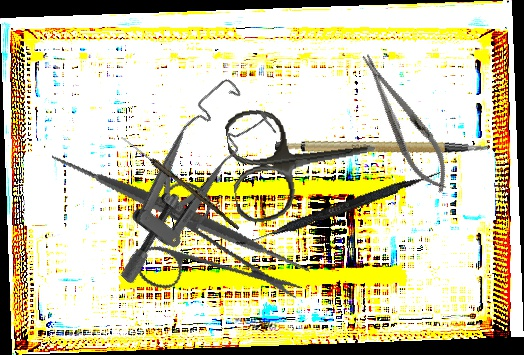Iris Scissors: (112, 155, 305, 347), (223, 93, 383, 226)
Needle Holder: (349, 44, 461, 201)
Scalpel Handle: (274, 111, 489, 187)
Spatula Surgical: (47, 80, 315, 349), (235, 164, 442, 254)
Speculum: (69, 74, 292, 287)
Surgical Spoon: (118, 134, 243, 231)
